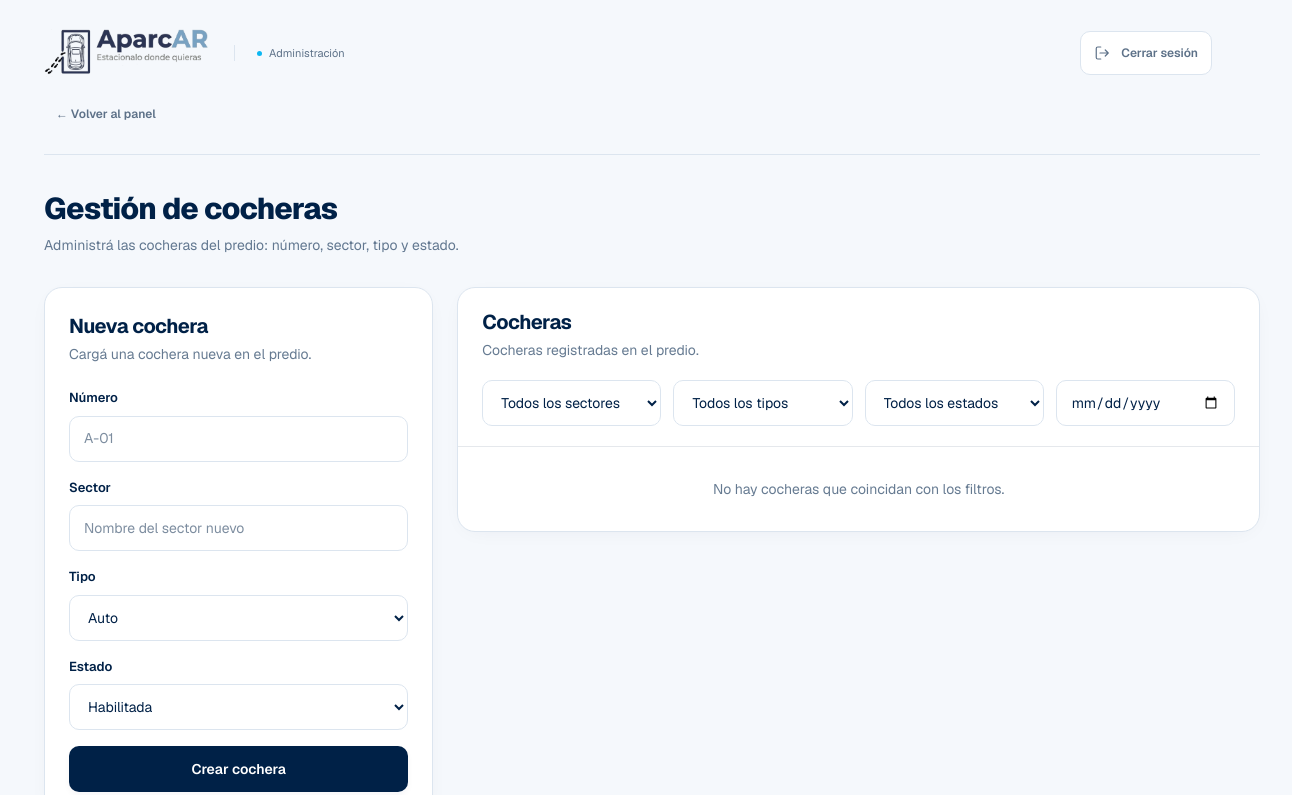
Test: CocherasManagement › muestra errores de validacion si falta numero o sector
Click the button "Crear cochera": [239, 769] box [69, 746, 408, 792]
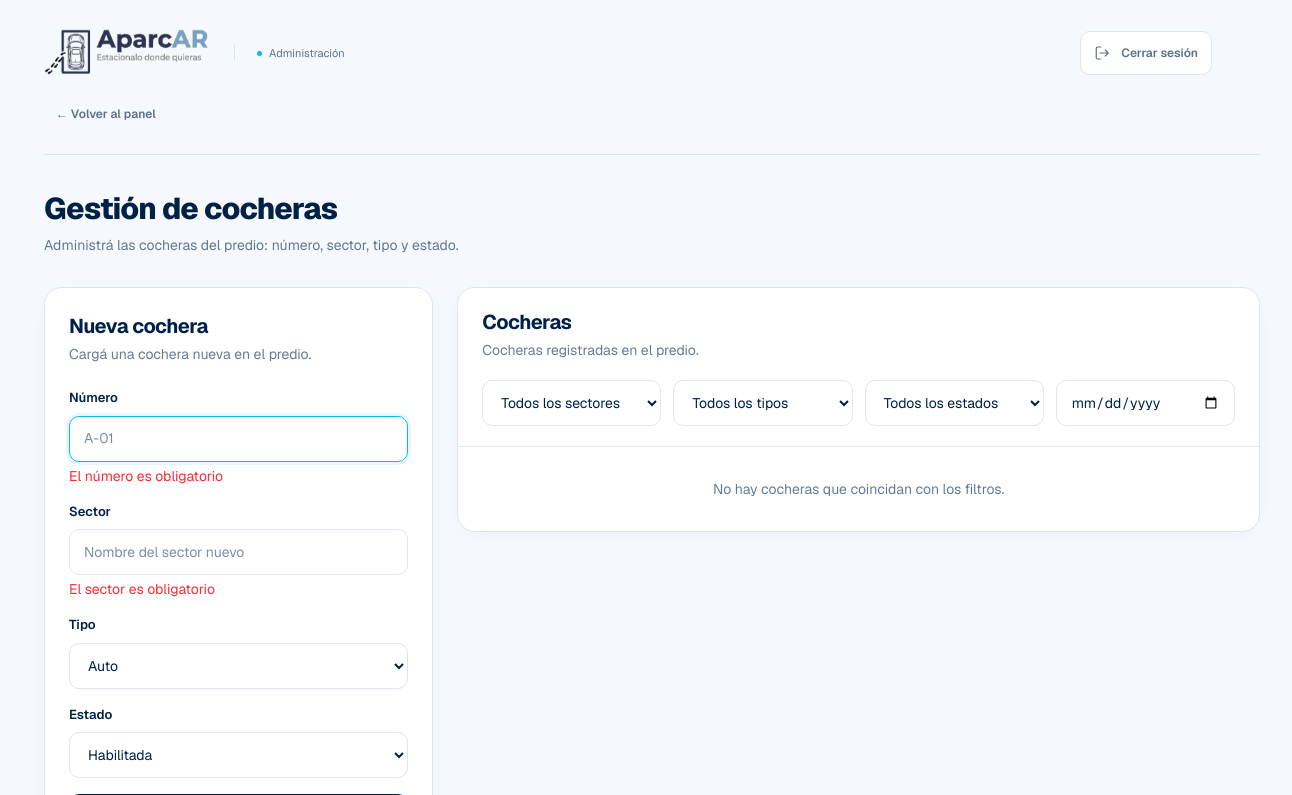
Check: the text "El número es obligatorio" is shown, box [69, 466, 223, 484]
Check: the text "El sector es obligatorio" is shown, box [69, 580, 215, 598]
